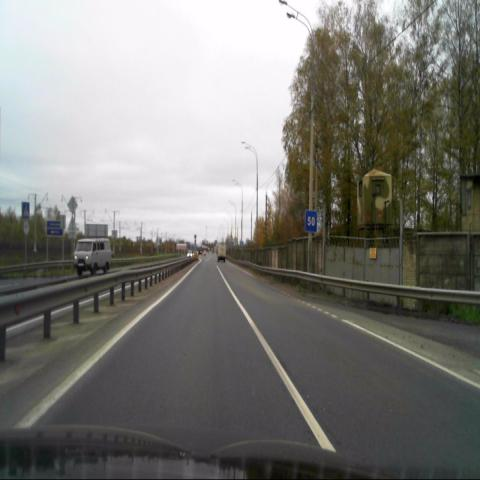6_2: (305, 210, 317, 232)
